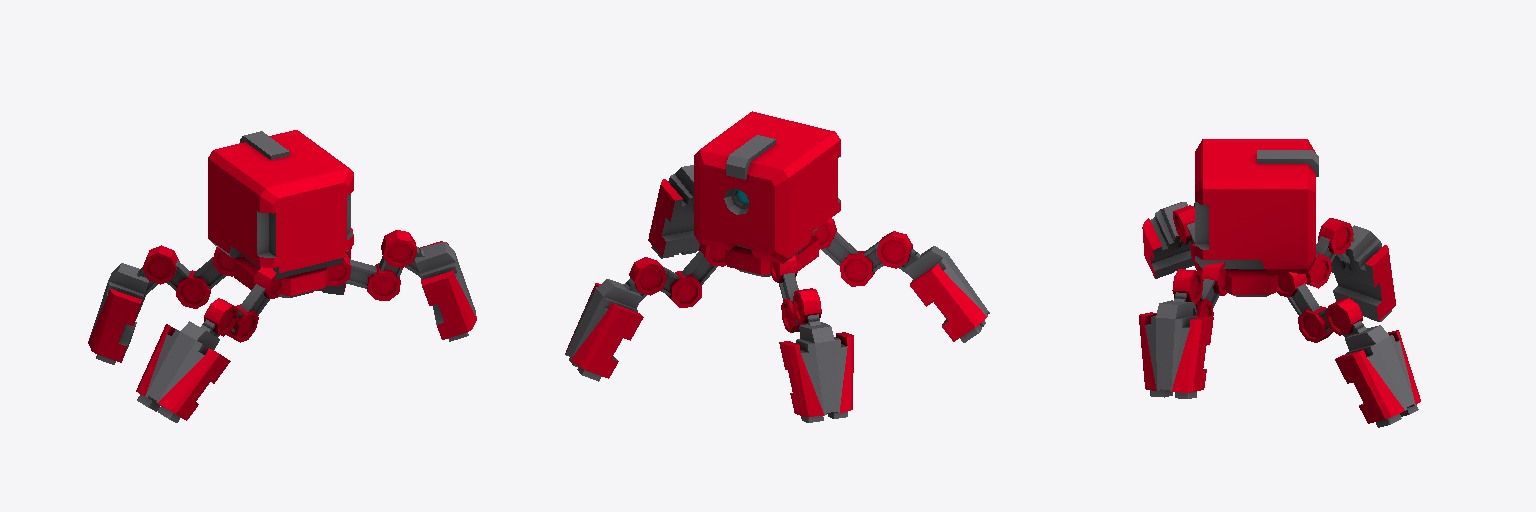
3 renders of one model, left to right at view 1: azimuth 30°, elevation 25°; view 2: azimuth 150°, elevation 25°; view 3: azimuth 270°, elevation 25°, orthographic.
Parts seen in each view (by area): view 1: Box006, Object021, Object017, Object025, Object020, Object027, Object028, Object022, Object018, Object019, Object024, Object026 (+1 smaller); view 2: Box006, Object025, Object013, Object021, Object017, Object016, Object023, Object024, Object015, Object022, Object014, Object028 (+1 smaller); view 3: Box006, Object017, Object013, Object025, Object021, Object016, Object014, Object028, Object020, Object015, Object027, Object018 (+1 smaller).
Part boxes in pixels (bbox=[...]): Box006: bbox=[208, 130, 353, 297]; Object021: bbox=[136, 321, 230, 422]; Object017: bbox=[415, 241, 476, 341]; Object025: bbox=[88, 263, 149, 364]; Object020: bbox=[381, 230, 424, 276]; Object027: bbox=[166, 260, 210, 308]; Object028: bbox=[137, 245, 179, 296]; Object022: bbox=[240, 267, 286, 315]; Object018: bbox=[327, 253, 376, 288]; Object019: bbox=[367, 256, 402, 300]; Object024: bbox=[201, 298, 237, 337]; Object026: bbox=[193, 247, 242, 289]; Box006: bbox=[694, 111, 840, 276]; Object025: bbox=[779, 322, 853, 422]; Object013: bbox=[565, 279, 643, 381]; Object021: bbox=[905, 246, 989, 342]; Object017: bbox=[648, 165, 699, 258]; Object016: bbox=[623, 257, 666, 301]; Object023: bbox=[840, 241, 883, 286]; Object024: bbox=[877, 231, 920, 275]; Object015: bbox=[661, 267, 701, 307]; Object022: bbox=[811, 218, 857, 265]; Object014: bbox=[681, 244, 725, 284]; Object028: bbox=[793, 288, 821, 325]; Box006: bbox=[1195, 139, 1318, 296]; Object017: bbox=[1139, 300, 1213, 398]; Object013: bbox=[1335, 325, 1420, 427]; Object025: bbox=[1331, 225, 1395, 321]; Object021: bbox=[1142, 202, 1194, 278]; Object016: bbox=[1325, 298, 1366, 337]; Object014: bbox=[1277, 272, 1320, 315]; Object028: bbox=[1318, 218, 1354, 263]; Object020: bbox=[1172, 269, 1202, 303]; Object015: bbox=[1298, 306, 1333, 342]; Object027: bbox=[1306, 236, 1335, 288]; Object018: bbox=[1202, 262, 1229, 307].
Size of the model in its own units: 187 by 116 by 138.
1 materials, 1 textured.